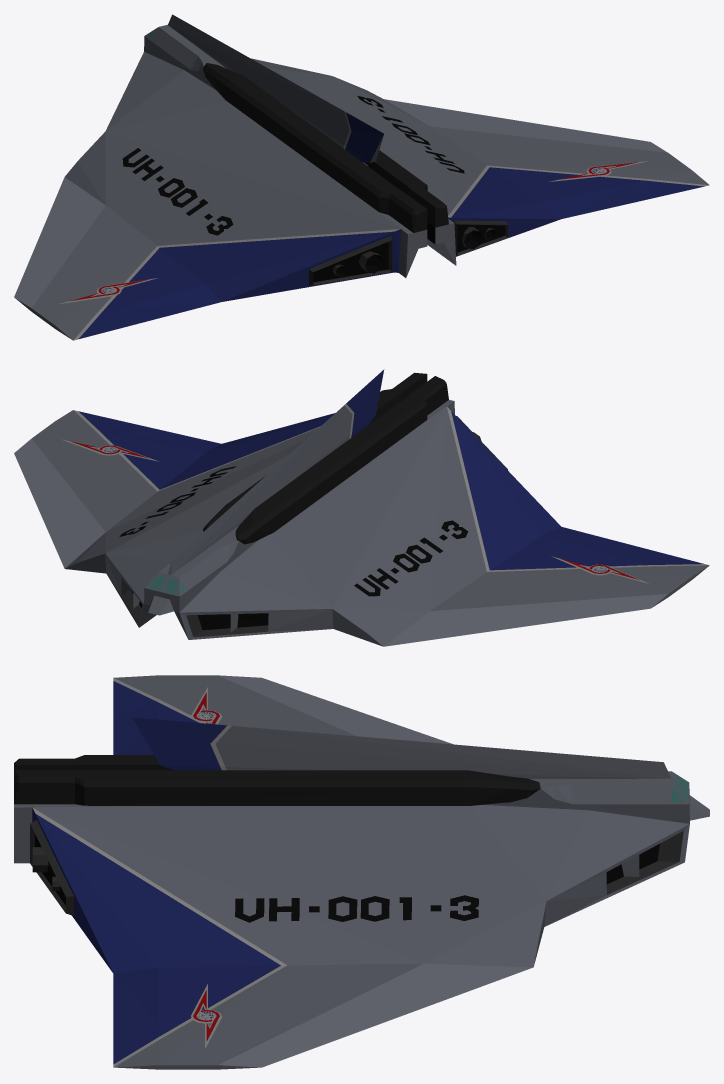
3 views of the same model, one above another, from view 1: azimuth 30°, elevation 25°; view 2: azimuth 150°, elevation 25°; view 3: azimuth 270°, elevation 25° (orthographic). The views are drawn at different scales.
Visible parts, largest first — view 1: ShapeIndexedFaceSet.059_ShapeIndexedFaceSet.060, ShapeIndexedFaceSet.046_ShapeIndexedFaceSet.047, ShapeIndexedFaceSet.062_ShapeIndexedFaceSet.063, ShapeIndexedFaceSet.061_ShapeIndexedFaceSet.062, ShapeIndexedFaceSet.051_ShapeIndexedFaceSet.052, ShapeIndexedFaceSet.064_ShapeIndexedFaceSet.065, ShapeIndexedFaceSet.054_ShapeIndexedFaceSet.055, ShapeIndexedFaceSet.065_ShapeIndexedFaceSet.066, ShapeIndexedFaceSet.050_ShapeIndexedFaceSet.051, ShapeIndexedFaceSet.053_ShapeIndexedFaceSet.054, ShapeIndexedFaceSet.074_ShapeIndexedFaceSet.075, ShapeIndexedFaceSet.096_ShapeIndexedFaceSet.097 (+6 smaller); view 2: ShapeIndexedFaceSet.059_ShapeIndexedFaceSet.060, ShapeIndexedFaceSet.046_ShapeIndexedFaceSet.047, ShapeIndexedFaceSet.062_ShapeIndexedFaceSet.063, ShapeIndexedFaceSet.064_ShapeIndexedFaceSet.065, ShapeIndexedFaceSet.061_ShapeIndexedFaceSet.062, ShapeIndexedFaceSet.054_ShapeIndexedFaceSet.055, ShapeIndexedFaceSet.051_ShapeIndexedFaceSet.052, ShapeIndexedFaceSet.065_ShapeIndexedFaceSet.066, ShapeIndexedFaceSet.050_ShapeIndexedFaceSet.051, ShapeIndexedFaceSet.074_ShapeIndexedFaceSet.075, ShapeIndexedFaceSet.096_ShapeIndexedFaceSet.097, ShapeIndexedFaceSet.047_ShapeIndexedFaceSet.048 (+6 smaller); view 3: ShapeIndexedFaceSet.059_ShapeIndexedFaceSet.060, ShapeIndexedFaceSet.062_ShapeIndexedFaceSet.063, ShapeIndexedFaceSet.046_ShapeIndexedFaceSet.047, ShapeIndexedFaceSet.051_ShapeIndexedFaceSet.052, ShapeIndexedFaceSet.061_ShapeIndexedFaceSet.062, ShapeIndexedFaceSet.054_ShapeIndexedFaceSet.055, ShapeIndexedFaceSet.064_ShapeIndexedFaceSet.065, ShapeIndexedFaceSet.065_ShapeIndexedFaceSet.066, ShapeIndexedFaceSet.050_ShapeIndexedFaceSet.051, ShapeIndexedFaceSet.096_ShapeIndexedFaceSet.097, ShapeIndexedFaceSet.047_ShapeIndexedFaceSet.048, ShapeIndexedFaceSet.074_ShapeIndexedFaceSet.075 (+7 smaller).
Boxes of the visible parts, x1,y1,x2,y2 form: ShapeIndexedFaceSet.059_ShapeIndexedFaceSet.060: [65, 14, 486, 245]; ShapeIndexedFaceSet.046_ShapeIndexedFaceSet.047: [15, 24, 456, 328]; ShapeIndexedFaceSet.062_ShapeIndexedFaceSet.063: [32, 126, 691, 325]; ShapeIndexedFaceSet.061_ShapeIndexedFaceSet.062: [160, 112, 560, 301]; ShapeIndexedFaceSet.051_ShapeIndexedFaceSet.052: [203, 63, 448, 232]; ShapeIndexedFaceSet.064_ShapeIndexedFaceSet.065: [14, 99, 667, 307]; ShapeIndexedFaceSet.054_ShapeIndexedFaceSet.055: [106, 27, 331, 131]; ShapeIndexedFaceSet.065_ShapeIndexedFaceSet.066: [101, 167, 646, 313]; ShapeIndexedFaceSet.050_ShapeIndexedFaceSet.051: [122, 96, 505, 282]; ShapeIndexedFaceSet.053_ShapeIndexedFaceSet.054: [102, 168, 604, 301]; ShapeIndexedFaceSet.074_ShapeIndexedFaceSet.075: [119, 284, 220, 324]; ShapeIndexedFaceSet.096_ShapeIndexedFaceSet.097: [542, 184, 646, 218]; ShapeIndexedFaceSet.059_ShapeIndexedFaceSet.060: [65, 405, 486, 646]; ShapeIndexedFaceSet.046_ShapeIndexedFaceSet.047: [65, 400, 691, 646]; ShapeIndexedFaceSet.062_ShapeIndexedFaceSet.063: [32, 421, 691, 639]; ShapeIndexedFaceSet.064_ShapeIndexedFaceSet.065: [14, 438, 667, 646]; ShapeIndexedFaceSet.061_ShapeIndexedFaceSet.062: [160, 369, 561, 569]; ShapeIndexedFaceSet.054_ShapeIndexedFaceSet.055: [105, 530, 332, 612]; ShapeIndexedFaceSet.051_ShapeIndexedFaceSet.052: [203, 372, 448, 544]; ShapeIndexedFaceSet.065_ShapeIndexedFaceSet.066: [101, 432, 646, 570]; ShapeIndexedFaceSet.050_ShapeIndexedFaceSet.051: [119, 466, 468, 630]; ShapeIndexedFaceSet.074_ShapeIndexedFaceSet.075: [542, 527, 646, 559]; ShapeIndexedFaceSet.096_ShapeIndexedFaceSet.097: [119, 424, 221, 452]; ShapeIndexedFaceSet.047_ShapeIndexedFaceSet.048: [121, 416, 507, 637]; ShapeIndexedFaceSet.059_ShapeIndexedFaceSet.060: [33, 807, 546, 967]; ShapeIndexedFaceSet.062_ShapeIndexedFaceSet.063: [158, 675, 689, 1065]; ShapeIndexedFaceSet.046_ShapeIndexedFaceSet.047: [14, 763, 709, 1069]; ShapeIndexedFaceSet.051_ShapeIndexedFaceSet.052: [14, 755, 540, 805]; ShapeIndexedFaceSet.061_ShapeIndexedFaceSet.062: [36, 814, 280, 973]; ShapeIndexedFaceSet.054_ShapeIndexedFaceSet.055: [470, 784, 689, 900]; ShapeIndexedFaceSet.064_ShapeIndexedFaceSet.065: [218, 675, 533, 1067]; ShapeIndexedFaceSet.065_ShapeIndexedFaceSet.066: [132, 702, 280, 1036]; ShapeIndexedFaceSet.050_ShapeIndexedFaceSet.051: [35, 834, 659, 922]; ShapeIndexedFaceSet.096_ShapeIndexedFaceSet.097: [113, 967, 158, 1027]; ShapeIndexedFaceSet.047_ShapeIndexedFaceSet.048: [30, 820, 683, 915]; ShapeIndexedFaceSet.074_ShapeIndexedFaceSet.075: [113, 712, 158, 754].
Size of the model in its own units: 236 by 44.98 by 178.
